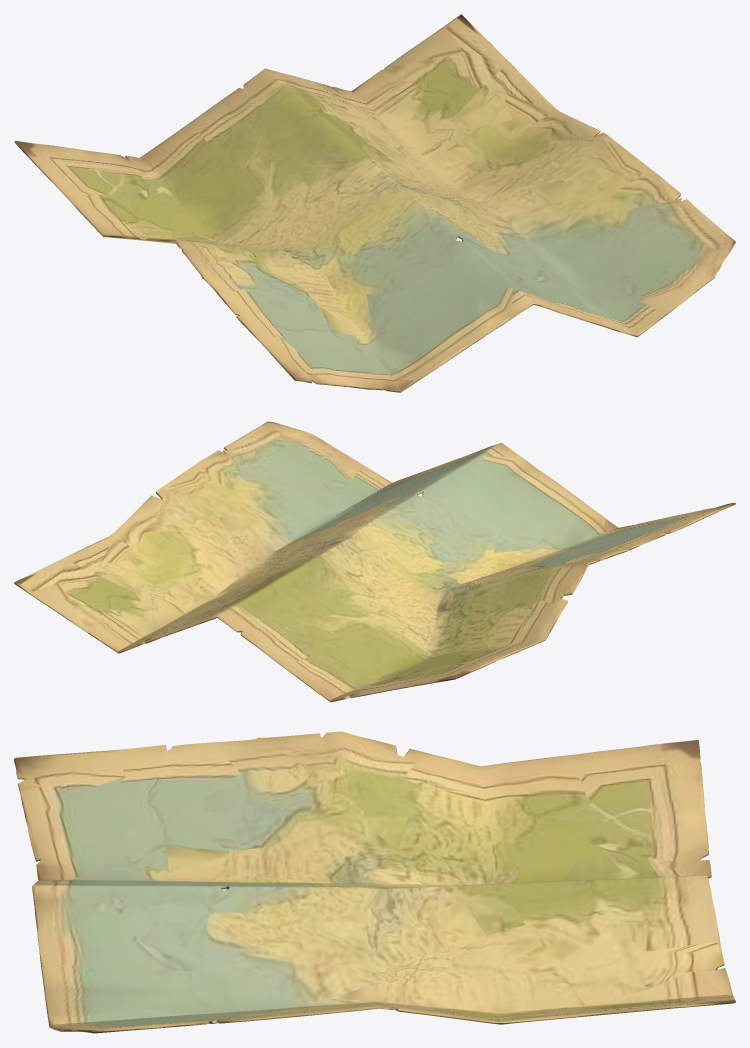
The model's file is map_paper_karta_rayona_idle.glb.
The picture shows the model from 3 angles, top to bottom: view 1: azimuth 30°, elevation 25°; view 2: azimuth 150°, elevation 25°; view 3: azimuth 270°, elevation 25°; orthographic projection. The views are drawn at different scales.
Visible parts, largest first — view 1: tripo_node_73e232ca-8cc9-4528-8428-e7daa2c77870; view 2: tripo_node_73e232ca-8cc9-4528-8428-e7daa2c77870; view 3: tripo_node_73e232ca-8cc9-4528-8428-e7daa2c77870.
Part boxes in pixels (bbox=[...]): tripo_node_73e232ca-8cc9-4528-8428-e7daa2c77870: bbox=[14, 14, 735, 392]; tripo_node_73e232ca-8cc9-4528-8428-e7daa2c77870: bbox=[14, 421, 735, 702]; tripo_node_73e232ca-8cc9-4528-8428-e7daa2c77870: bbox=[14, 731, 735, 1033].
Bounding box in the file's own units: 0.2666 × 0.0476 × 0.3001.
1 material, 1 textured.
